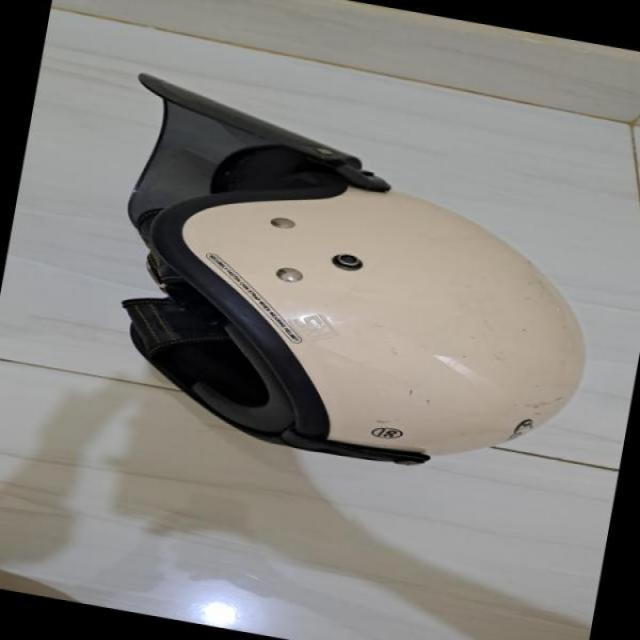Helmet: (120, 62, 610, 483)
